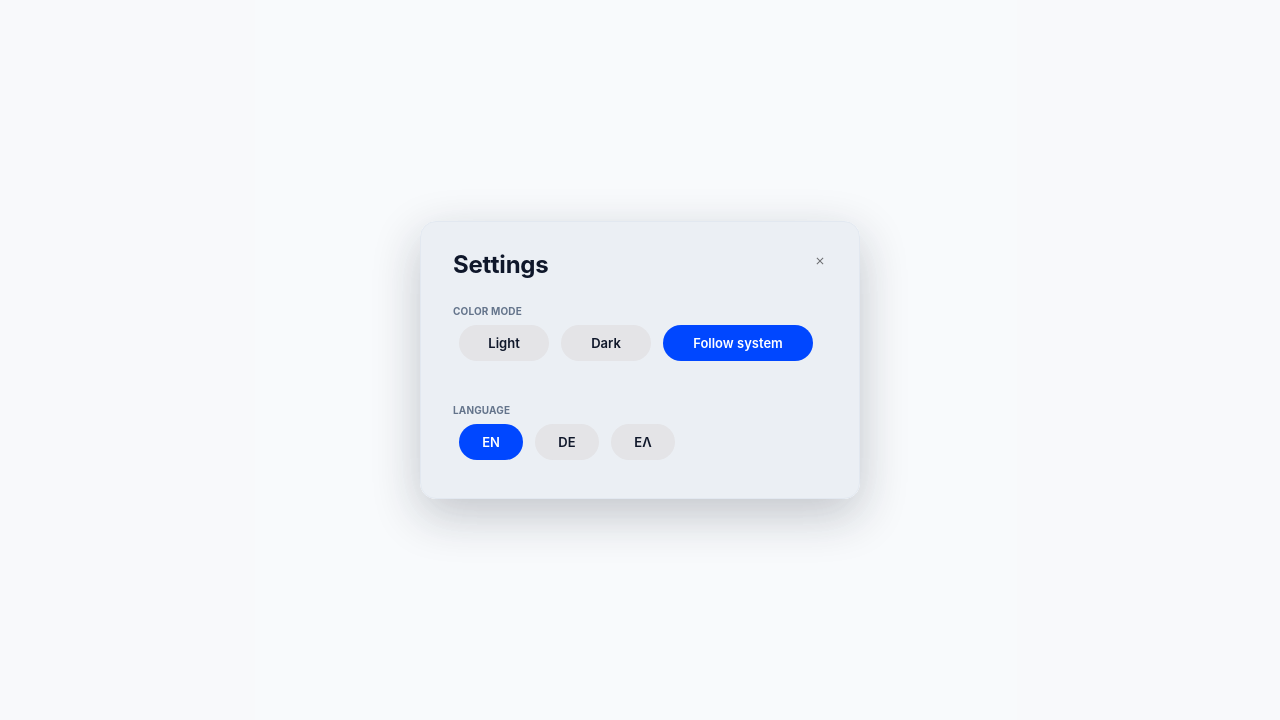
Test: SettingsPanel › a language selection is obeyed by every rendered statement
What coordinates should you click on to do the following:
click the button with test id "settings-language-option-de"
I would click on:
 (567, 442)
Its box is [535,424,599,460].
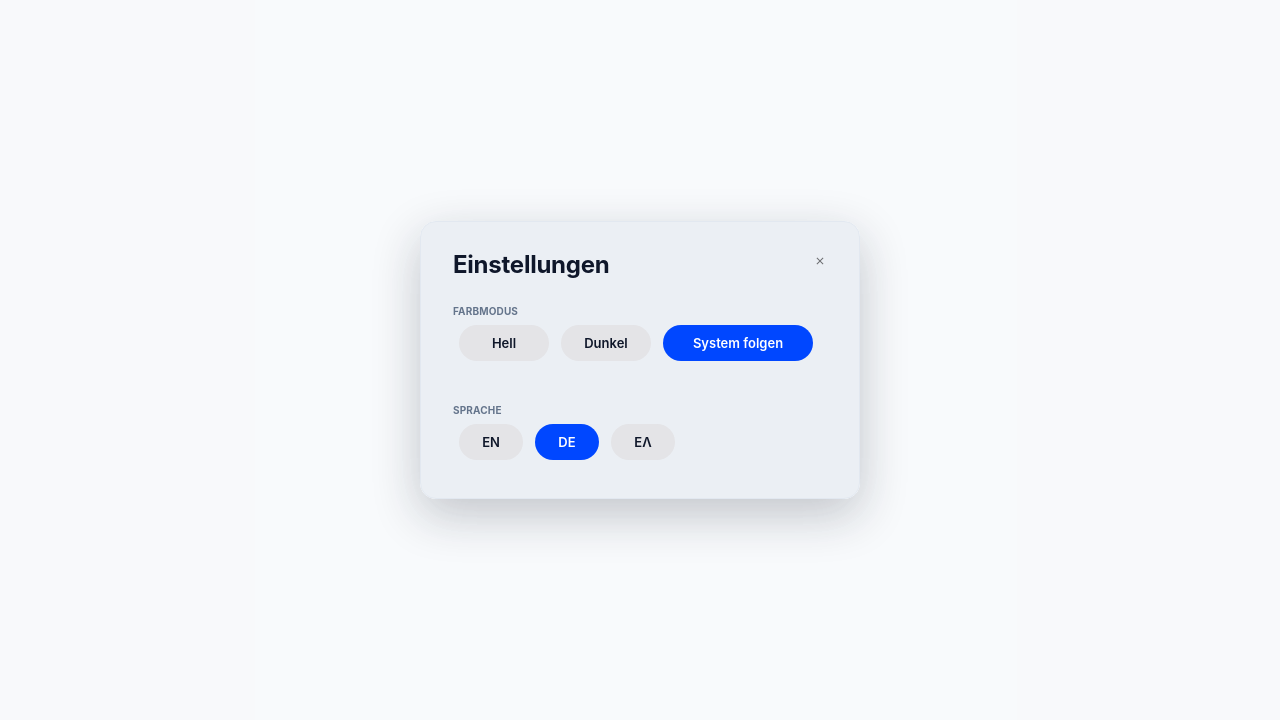
Expected: the heading "Einstellungen" is shown, [453,250,610,279]
